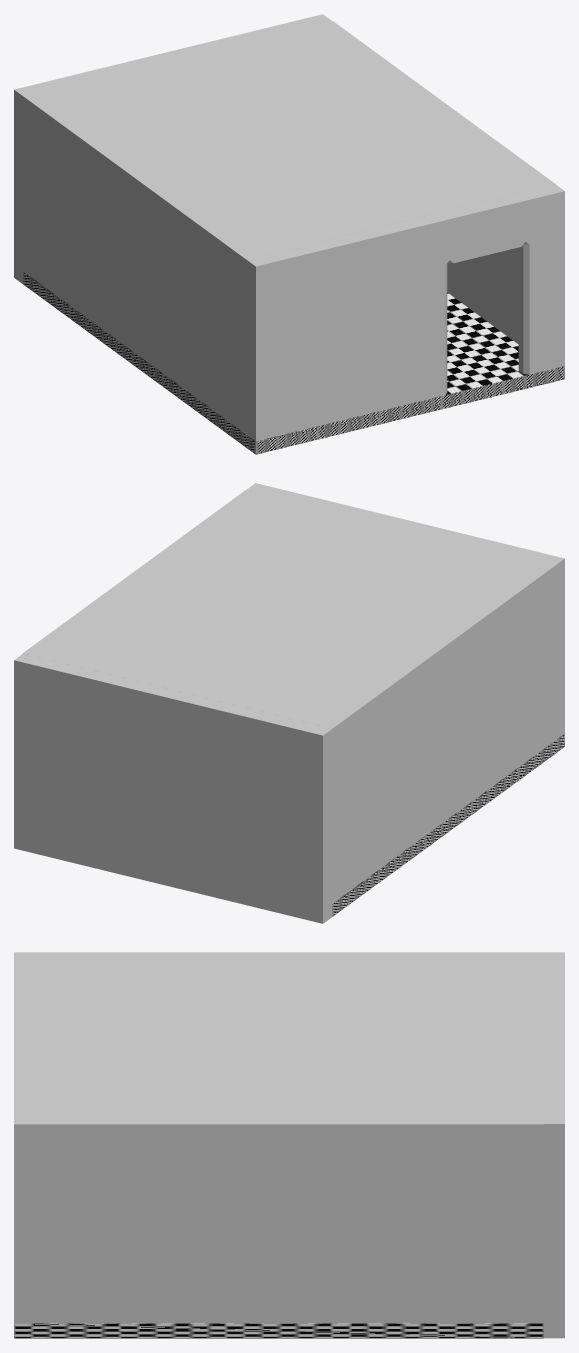
The model's file is RoomRoom.fbx.
The picture shows the model from 3 angles, top to bottom: view 1: azimuth 30°, elevation 25°; view 2: azimuth 150°, elevation 25°; view 3: azimuth 270°, elevation 25°; orthographic projection. The views are drawn at different scales.
Parts seen in each view (by area): view 1: polySurface3; view 2: polySurface3; view 3: polySurface3.
Boxes of the visible parts, x1=… form: polySurface3: x1=14, y1=14, x2=564, y2=454; polySurface3: x1=14, y1=483, x2=564, y2=923; polySurface3: x1=14, y1=952, x2=564, y2=1338.
Bounding box in the file's own units: 520 × 302 × 704.
Materials: 2 (2 with a texture image).
